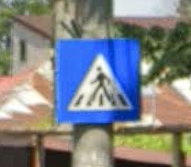trecere_pietoni: (54, 38, 142, 123)
